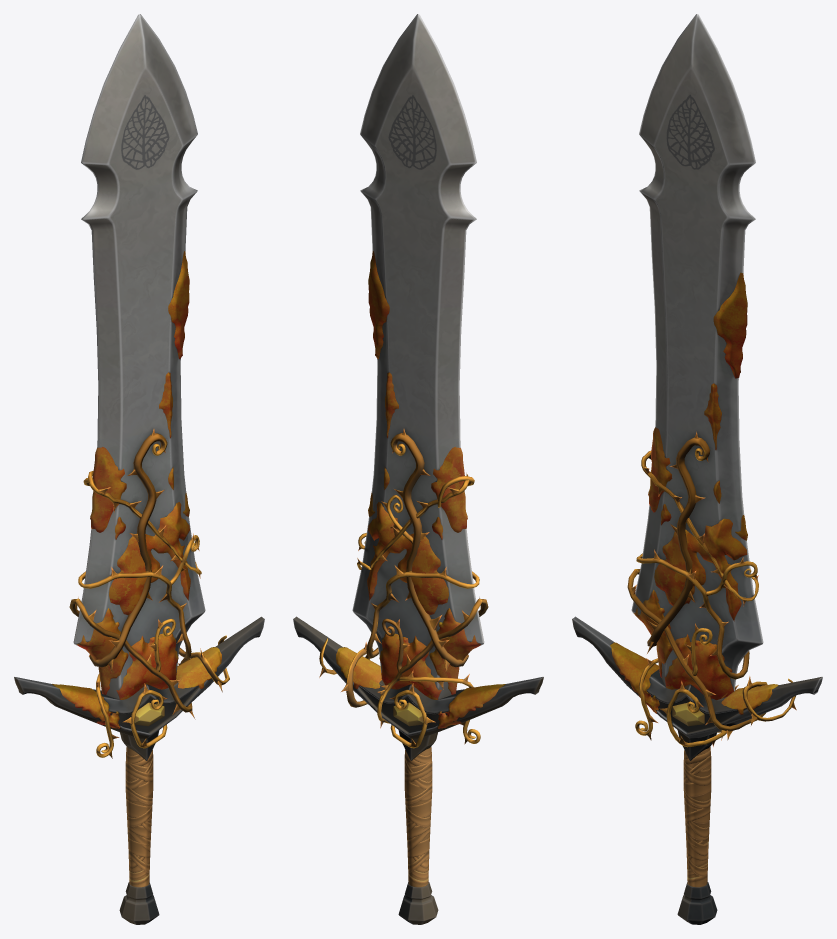
The model's file is sm_sword_105.gltf.
3 views of the same model, side by side, from view 1: azimuth 30°, elevation 25°; view 2: azimuth 150°, elevation 25°; view 3: azimuth 330°, elevation 25° (orthographic).
Parts seen in each view (by area): view 1: SM_Sword_105; view 2: SM_Sword_105; view 3: SM_Sword_105.
Boxes of the visible parts, box(x1,y1,x2,y2) form: SM_Sword_105: box(14, 14, 264, 924); SM_Sword_105: box(293, 14, 543, 924); SM_Sword_105: box(572, 14, 822, 924).
Bounding box in the file's own units: 0.4062 × 1.42 × 0.0988.
1 material, 1 textured.
